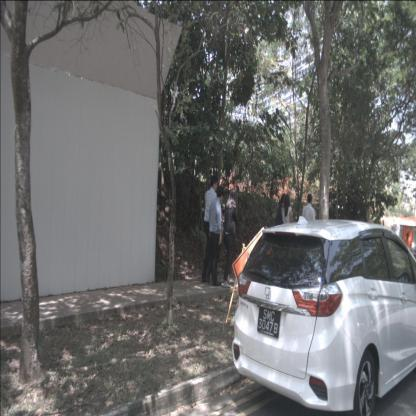human-pedestrian-adult: (201, 175, 219, 283), (222, 188, 240, 289), (208, 185, 224, 286), (302, 194, 316, 268), (276, 193, 290, 263), (281, 195, 294, 264)
vehicle-car: (231, 219, 416, 416)
